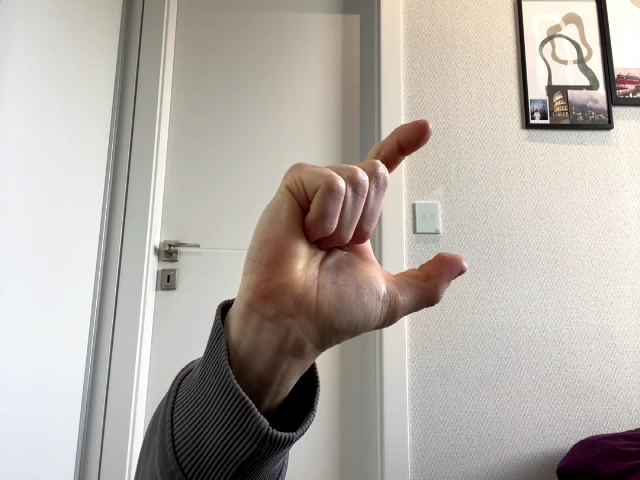C: (240, 120, 467, 341)
